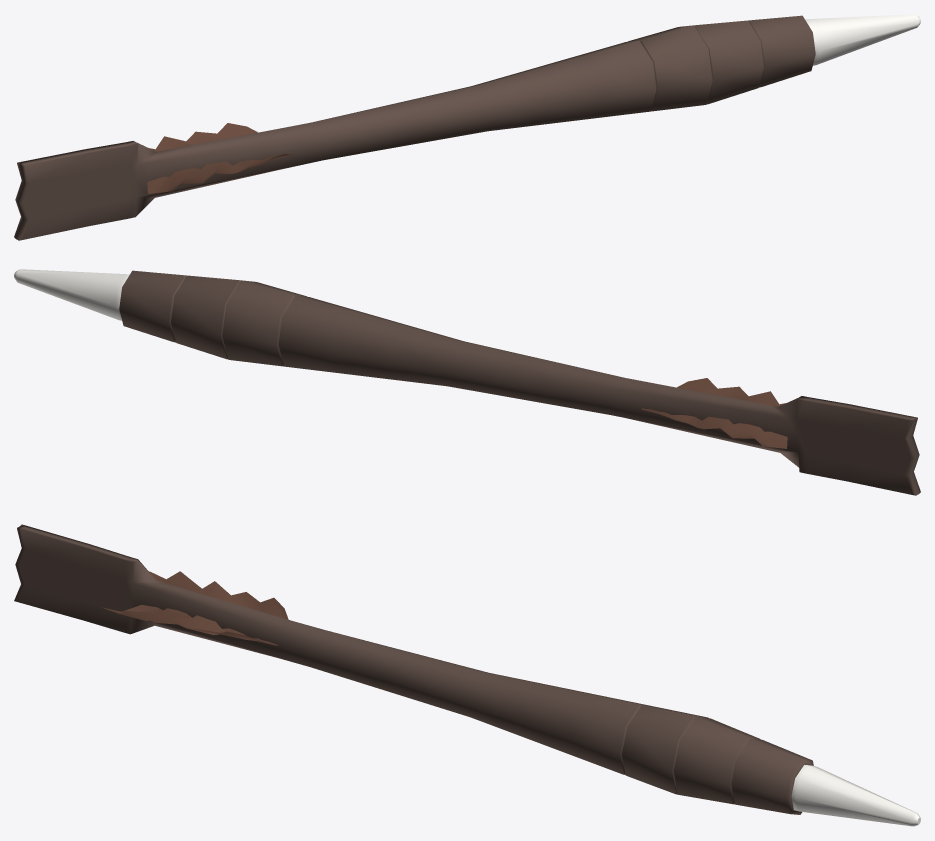
The model's file is Beta_Arrow.glb.
The picture shows the model from 3 angles, top to bottom: view 1: azimuth 30°, elevation 25°; view 2: azimuth 150°, elevation 25°; view 3: azimuth 330°, elevation 25°; orthographic projection.
Parts seen in each view (by area): view 1: body; view 2: body; view 3: body.
Boxes of the visible parts, <box> form: body: <box>14,14,920,240</box>; body: <box>14,269,920,495</box>; body: <box>14,524,920,826</box>.
Size of the model in its own units: 0.2512 by 0.0281 by 0.026.
